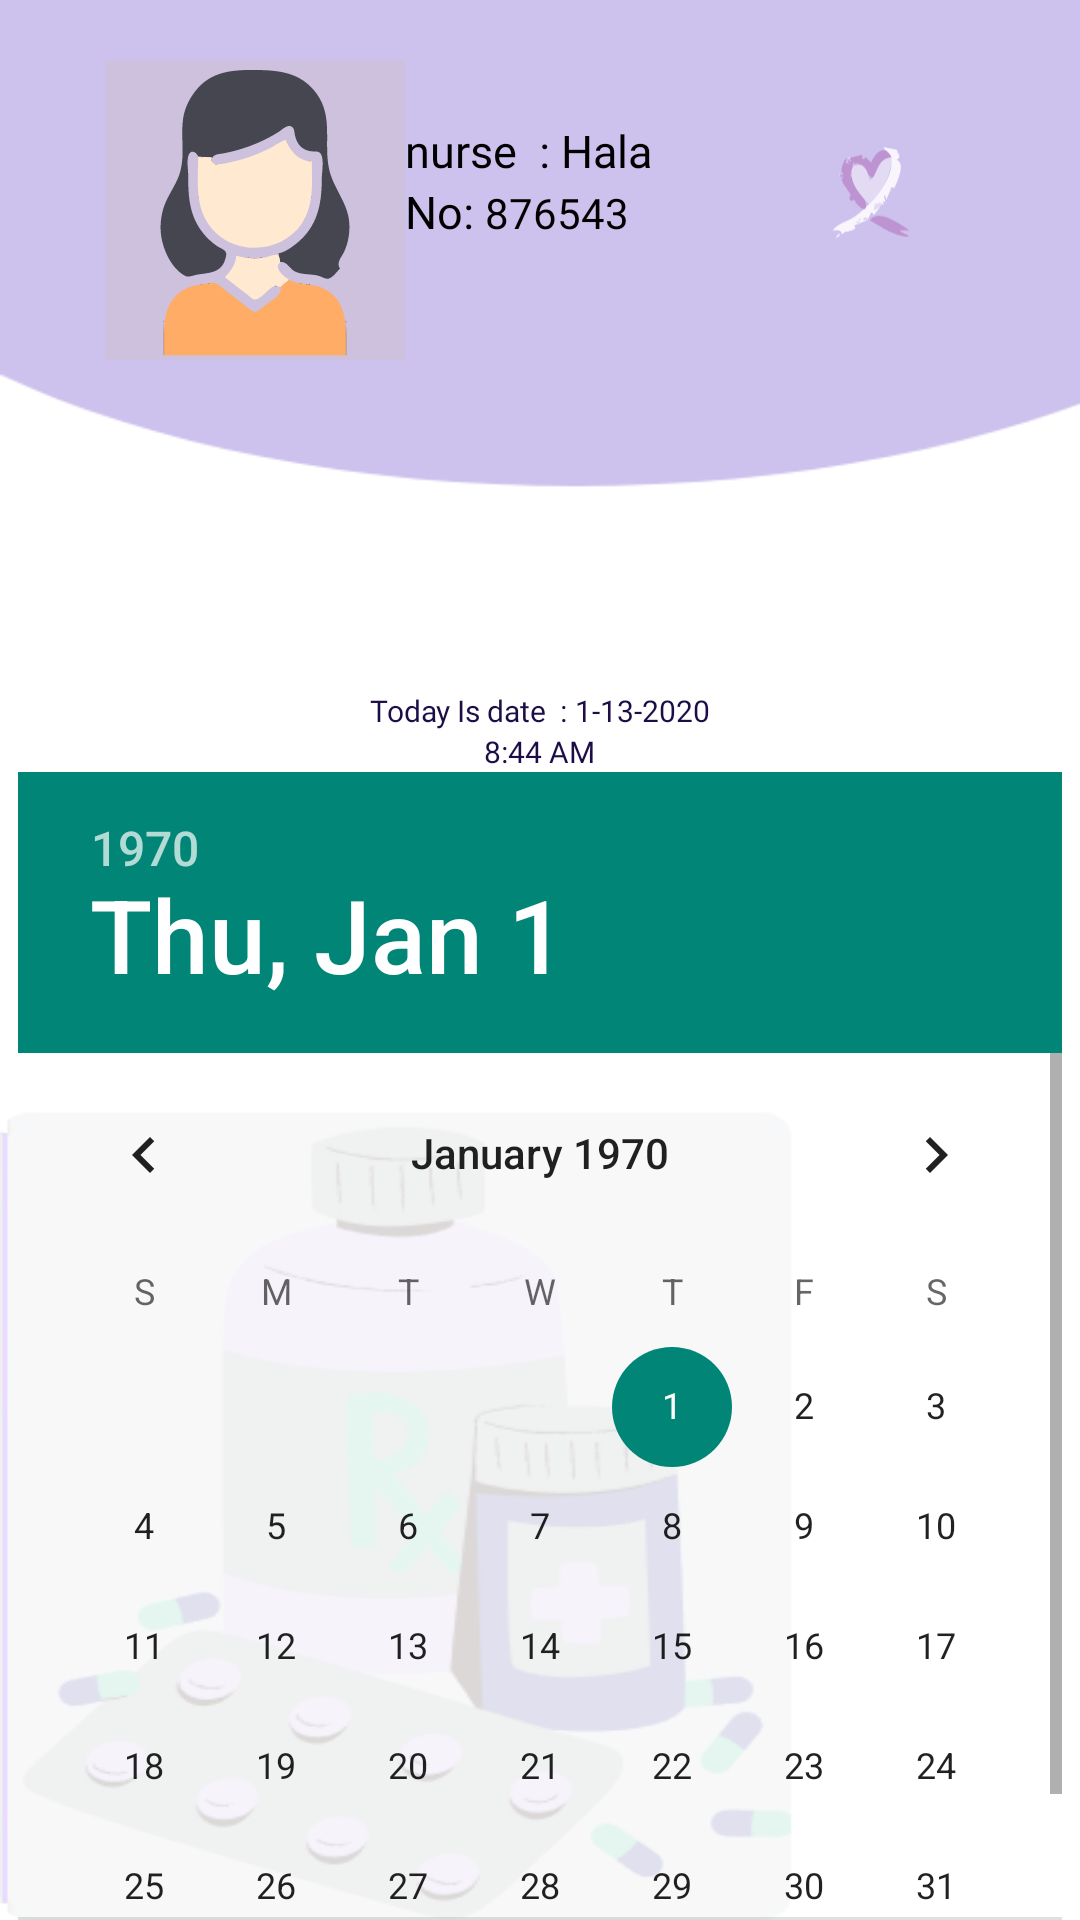

Icon click points for this 1080 × 1920 phone screenshot, format [x,y]:
person: [255,213]
